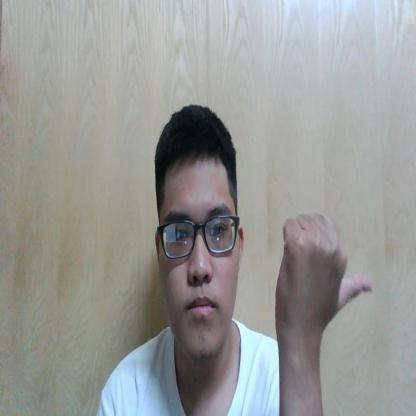left: (274, 208, 372, 350)
